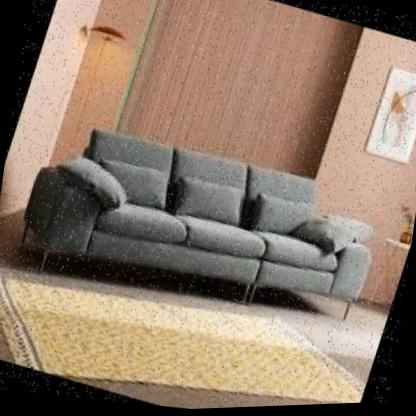Sofa: (0, 73, 407, 383)
